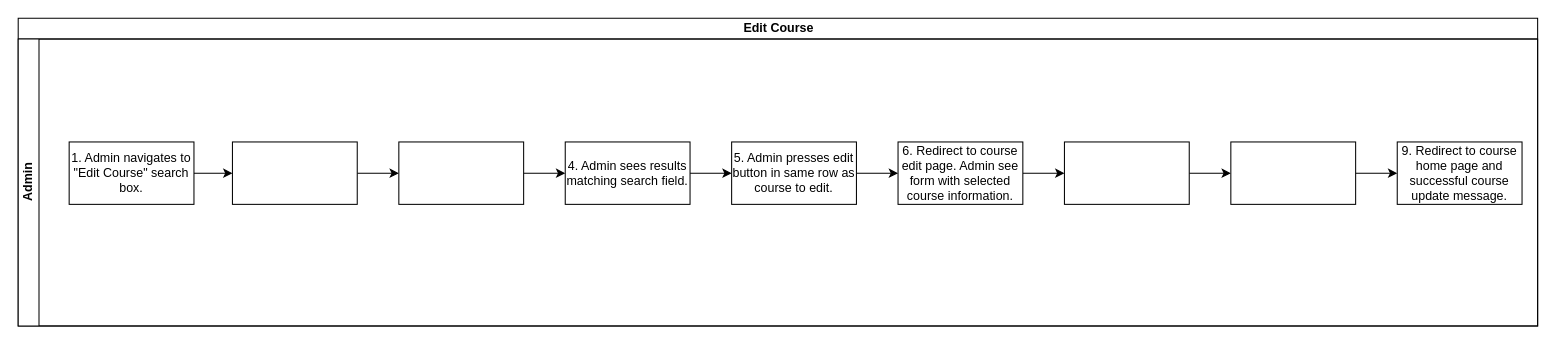
This 1556x344 diagram has some shape labels left out. Each missing label, with the centre of its shape:
2. Admin enters course name to search for course.: the point at 294,172
3. Admin presses search button to the right of the search box.: the point at 461,172
7. Admin updates information about the course.: the point at 1126,172
8. Admin presses green "Update Course" button: the point at 1293,172
